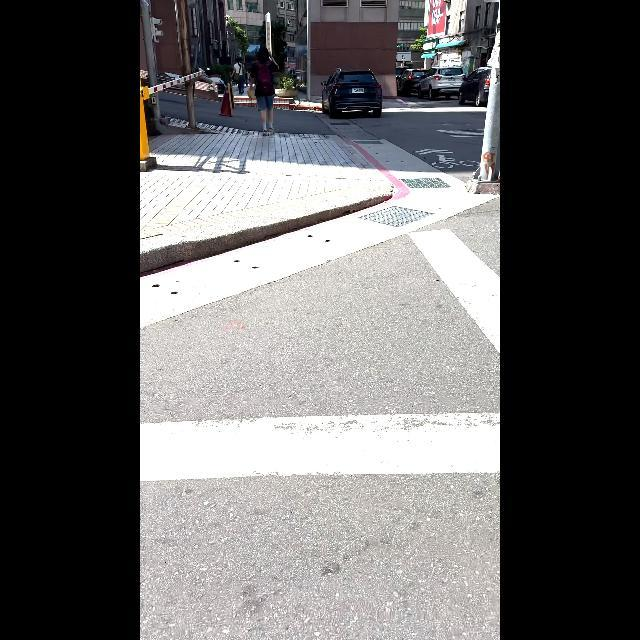sidewalk: (149, 411, 491, 484)
